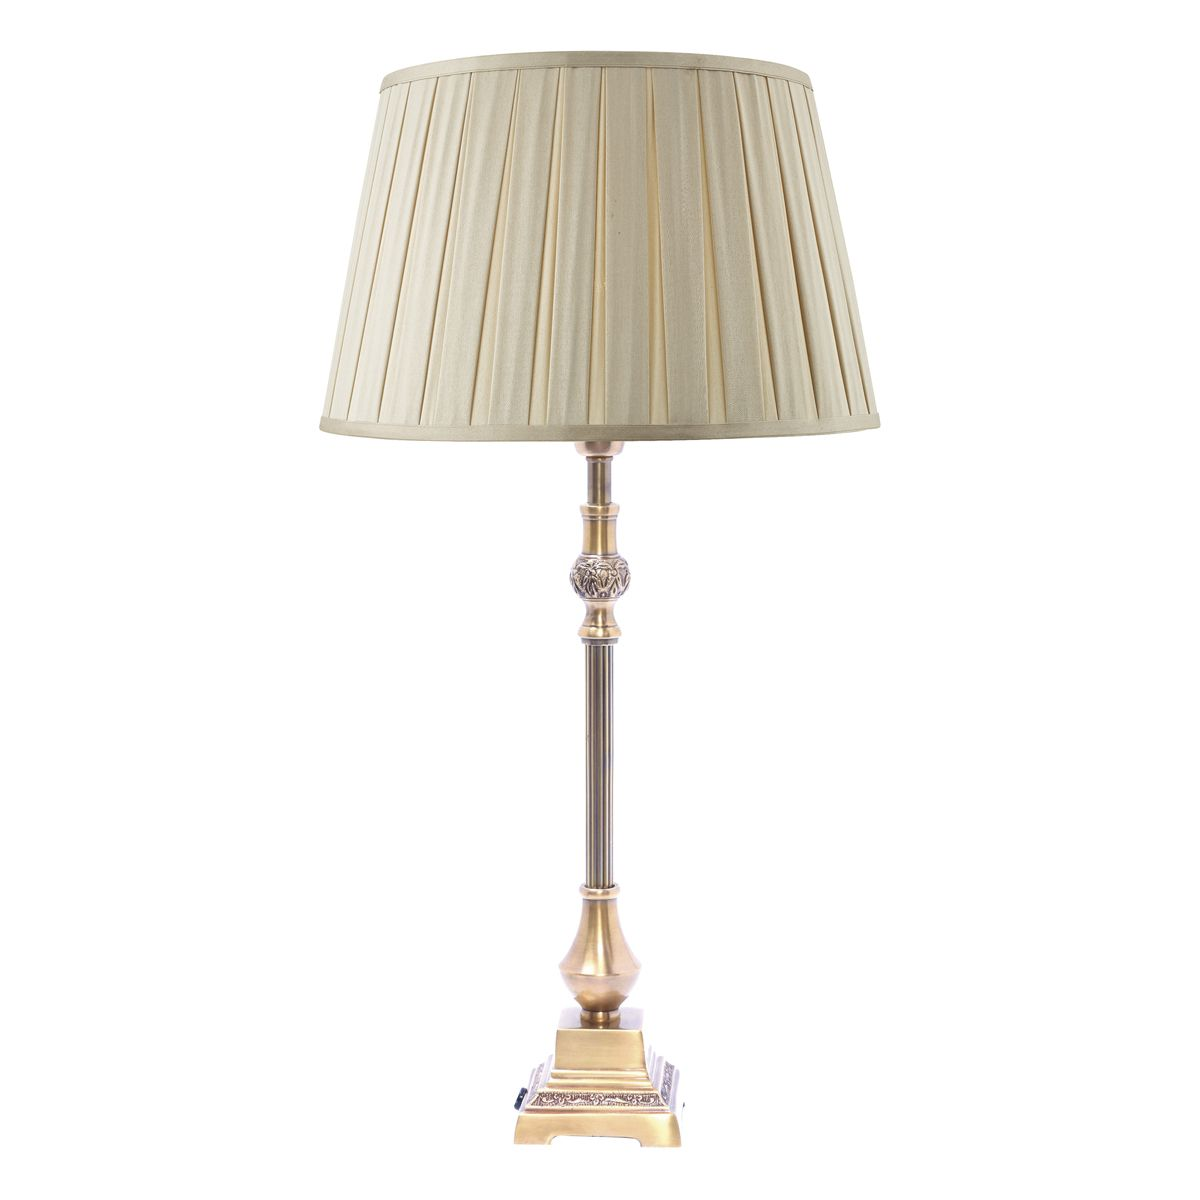lampu: (284, 38, 907, 1163)
